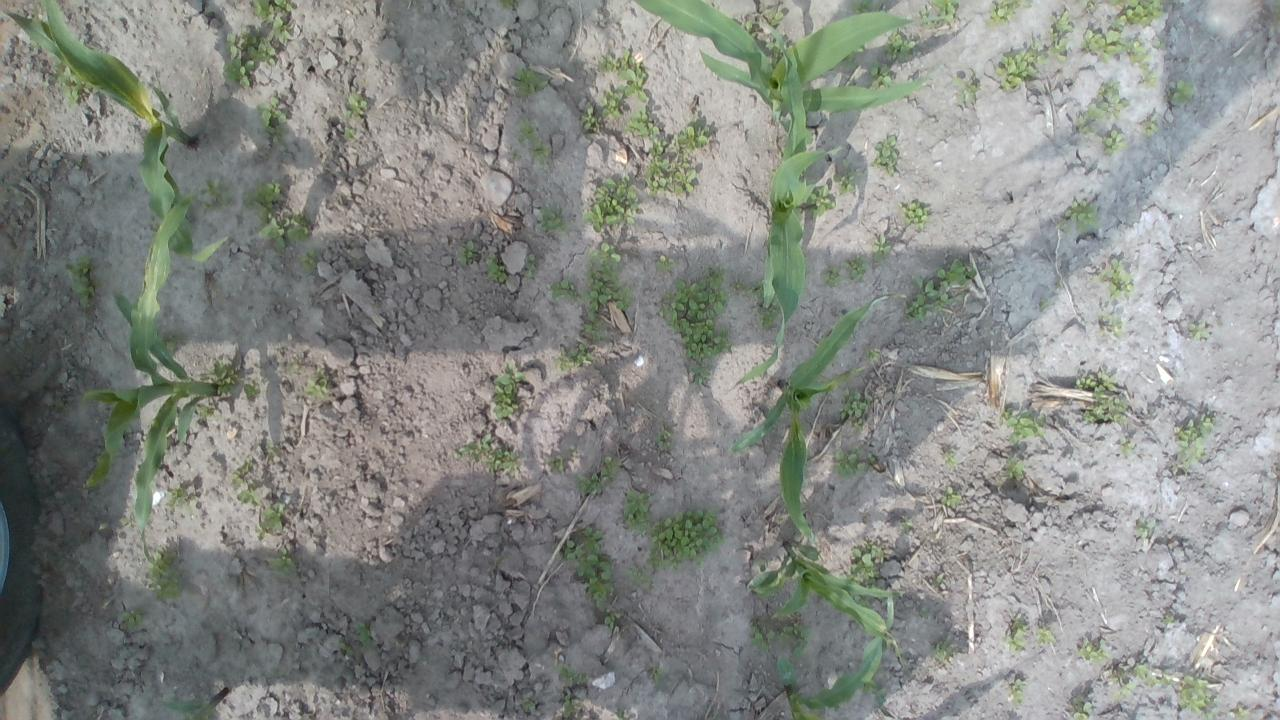Maize: (0, 0, 227, 262), (80, 189, 220, 544), (728, 289, 903, 548), (734, 26, 828, 390), (632, 0, 930, 114), (746, 540, 894, 640), (776, 636, 886, 720), (160, 686, 231, 720)
Weeds: (659, 266, 732, 366), (240, 179, 312, 253), (646, 508, 726, 571), (584, 241, 632, 343), (904, 258, 976, 322), (562, 526, 614, 610), (581, 175, 639, 233), (222, 30, 276, 88), (644, 140, 698, 197), (1075, 371, 1129, 424), (1076, 82, 1128, 136), (450, 432, 520, 472), (750, 615, 809, 660), (994, 46, 1048, 94), (44, 51, 88, 108), (490, 359, 529, 420), (1174, 416, 1216, 470), (572, 450, 619, 496), (147, 545, 186, 599), (250, 0, 292, 47), (845, 542, 884, 592), (999, 406, 1045, 447), (1110, 0, 1164, 31), (257, 95, 289, 146), (832, 446, 878, 481), (1082, 28, 1128, 62), (67, 254, 97, 306), (1176, 675, 1216, 713), (192, 178, 234, 214), (622, 488, 653, 536), (838, 388, 871, 432), (1048, 9, 1074, 64), (1098, 258, 1133, 298), (509, 64, 549, 98), (1127, 38, 1155, 86), (1064, 197, 1099, 234), (918, 0, 958, 30), (676, 118, 711, 152), (595, 49, 633, 80), (872, 134, 899, 177), (898, 198, 932, 232), (213, 358, 241, 398), (624, 108, 660, 139), (884, 26, 915, 61), (834, 159, 864, 194), (1134, 663, 1174, 689), (953, 68, 980, 106), (804, 185, 836, 216), (985, 0, 1021, 27), (552, 662, 592, 686), (255, 500, 282, 535), (623, 67, 649, 103), (558, 344, 592, 371), (303, 368, 332, 398), (1005, 610, 1026, 650), (270, 546, 298, 576), (752, 304, 778, 336), (1077, 638, 1109, 664), (158, 326, 186, 354), (930, 632, 956, 662), (352, 621, 377, 652), (540, 205, 568, 232), (168, 482, 195, 510), (1169, 77, 1195, 106), (341, 94, 368, 120), (836, 44, 864, 69), (623, 564, 652, 588), (869, 60, 892, 90), (1102, 128, 1128, 154), (196, 398, 224, 422), (599, 89, 622, 118), (1108, 668, 1130, 698), (763, 40, 784, 71), (230, 456, 256, 481), (846, 255, 870, 282), (299, 246, 322, 274), (484, 255, 506, 284), (551, 277, 577, 301), (514, 118, 538, 144), (862, 680, 887, 704), (529, 143, 552, 168), (456, 239, 477, 266), (1003, 454, 1025, 479), (687, 364, 712, 386), (120, 606, 145, 628), (821, 264, 843, 288), (872, 236, 892, 262), (1009, 678, 1026, 708), (240, 483, 262, 506), (852, 0, 888, 14), (940, 485, 961, 509), (1072, 698, 1094, 720), (1099, 316, 1121, 338), (560, 687, 574, 719), (764, 7, 784, 28), (652, 255, 674, 274), (580, 104, 596, 130), (1188, 321, 1208, 341), (740, 19, 758, 41), (242, 376, 260, 398), (266, 439, 282, 463), (647, 662, 666, 682), (523, 254, 537, 280), (604, 611, 623, 630), (1037, 628, 1057, 646), (1140, 117, 1158, 137), (10, 254, 30, 272), (548, 455, 566, 474), (654, 429, 672, 448), (1135, 520, 1152, 540), (1233, 704, 1253, 720), (1120, 438, 1137, 456), (341, 124, 358, 142), (942, 450, 958, 469), (751, 278, 763, 303), (850, 593, 870, 608), (122, 416, 140, 432), (864, 347, 880, 365), (119, 514, 138, 529), (521, 696, 536, 712), (337, 642, 354, 656), (495, 0, 520, 9), (753, 558, 769, 572), (898, 516, 914, 530), (1055, 218, 1069, 232), (196, 373, 216, 382), (1270, 0, 1280, 17), (1160, 614, 1174, 626), (733, 278, 746, 290), (932, 573, 945, 585), (918, 606, 928, 621), (1199, 712, 1217, 720), (1085, 0, 1103, 8), (616, 706, 625, 720), (511, 151, 522, 161), (894, 590, 905, 600), (74, 158, 84, 168), (1154, 38, 1164, 48), (1040, 298, 1048, 309), (712, 711, 721, 720), (1055, 280, 1065, 288)
